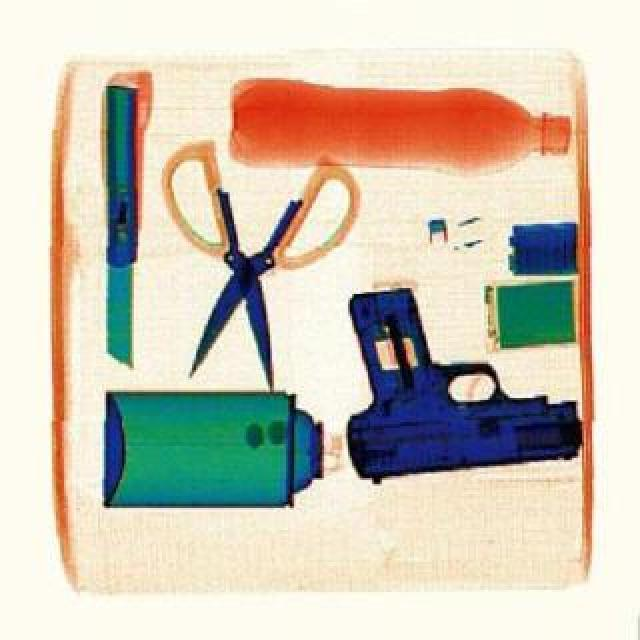gun: (344, 284, 582, 482)
pliers: (160, 136, 360, 392)
